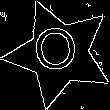O_S: (35, 26, 84, 81)
